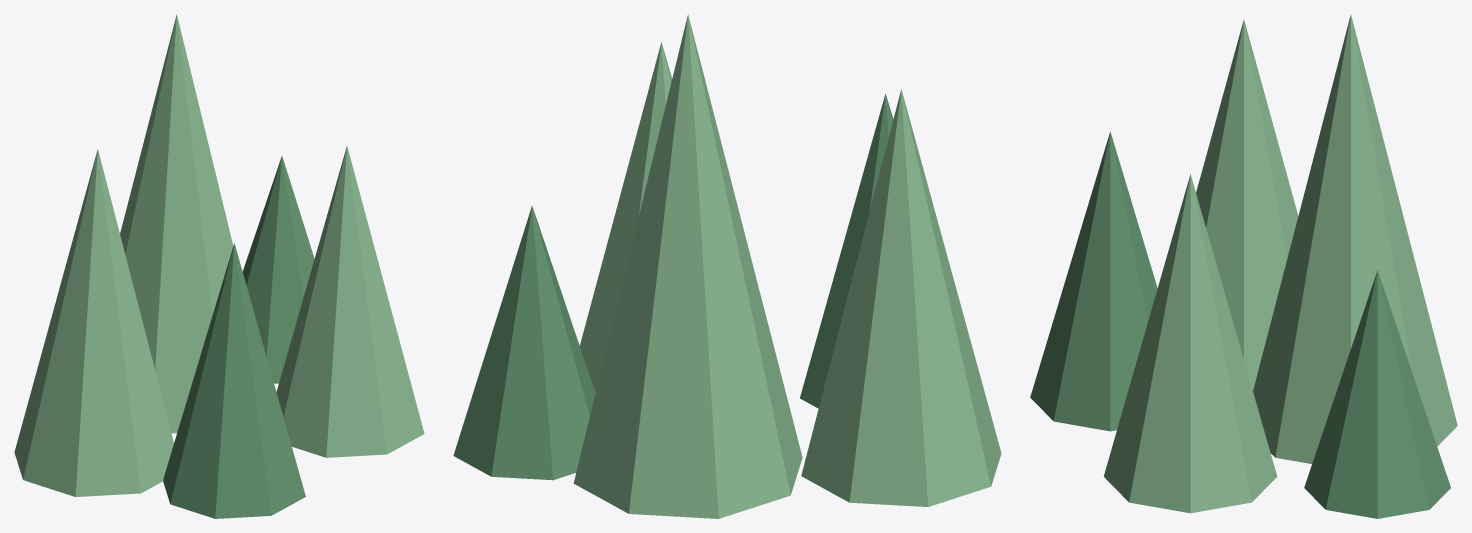
Rendered from fanqing_grass.glb.
The picture shows the model from 3 angles, left to right: view 1: azimuth 30°, elevation 25°; view 2: azimuth 150°, elevation 25°; view 3: azimuth 270°, elevation 25°; orthographic projection. The views are drawn at different scales.
Parts seen in each view (by area): view 1: fanqing_grass; view 2: fanqing_grass; view 3: fanqing_grass.
Boxes of the visible parts, x1,y1,x2,y2 form: fanqing_grass: (14,14,424,518); fanqing_grass: (453,14,1001,518); fanqing_grass: (1030,14,1457,518).
Bounding box in the file's own units: 0.71 × 0.68 × 0.64.
2 materials, 2 textured.
